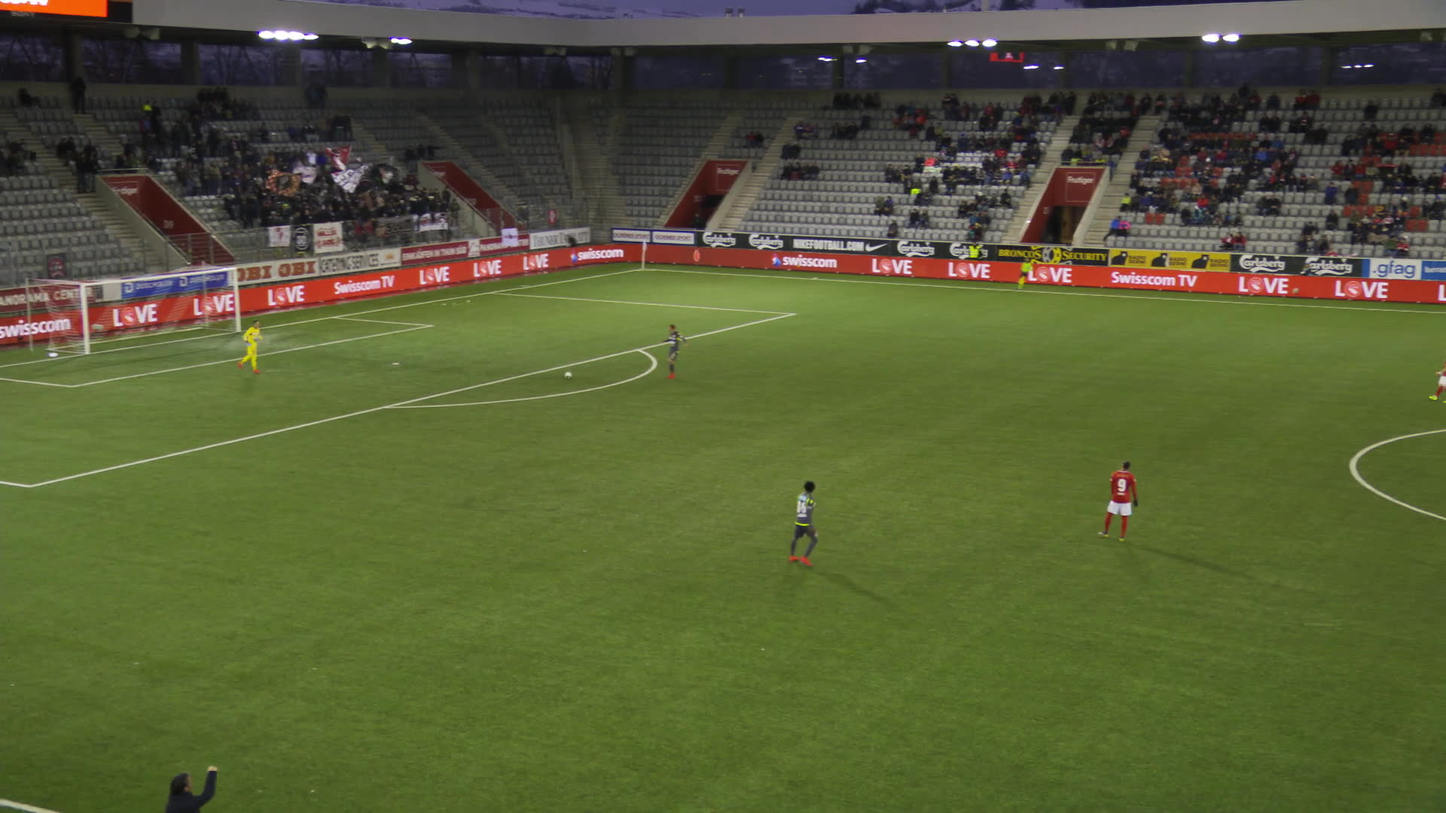ball: (563, 370, 572, 377)
player: (1097, 460, 1139, 542), (787, 480, 819, 566), (241, 320, 269, 373), (665, 324, 688, 381), (1429, 361, 1445, 402)
referee: (1017, 259, 1032, 290)
